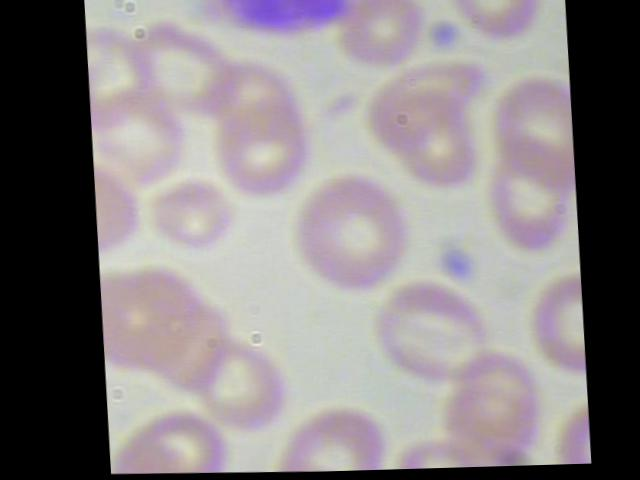Platelets: (432, 242, 476, 292), (426, 17, 459, 59)
